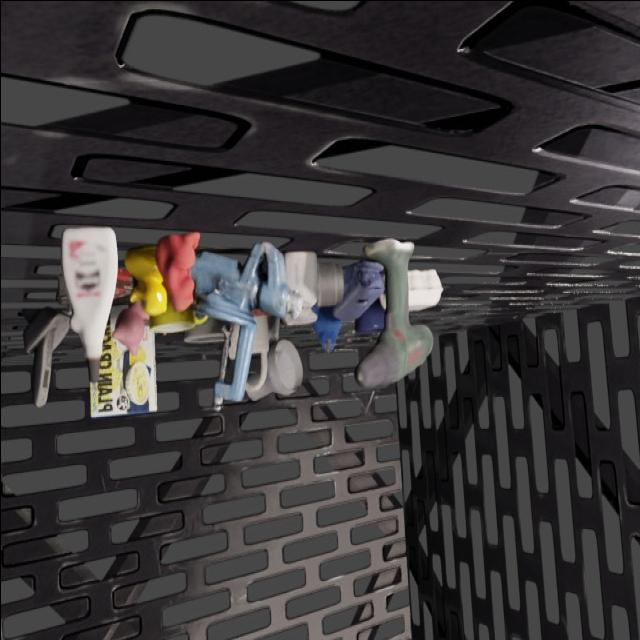Other Objects: (61, 227, 117, 363), (151, 232, 198, 309), (124, 247, 166, 315), (112, 301, 147, 353), (148, 301, 206, 332), (407, 269, 441, 311), (312, 307, 340, 351), (354, 299, 384, 333)
